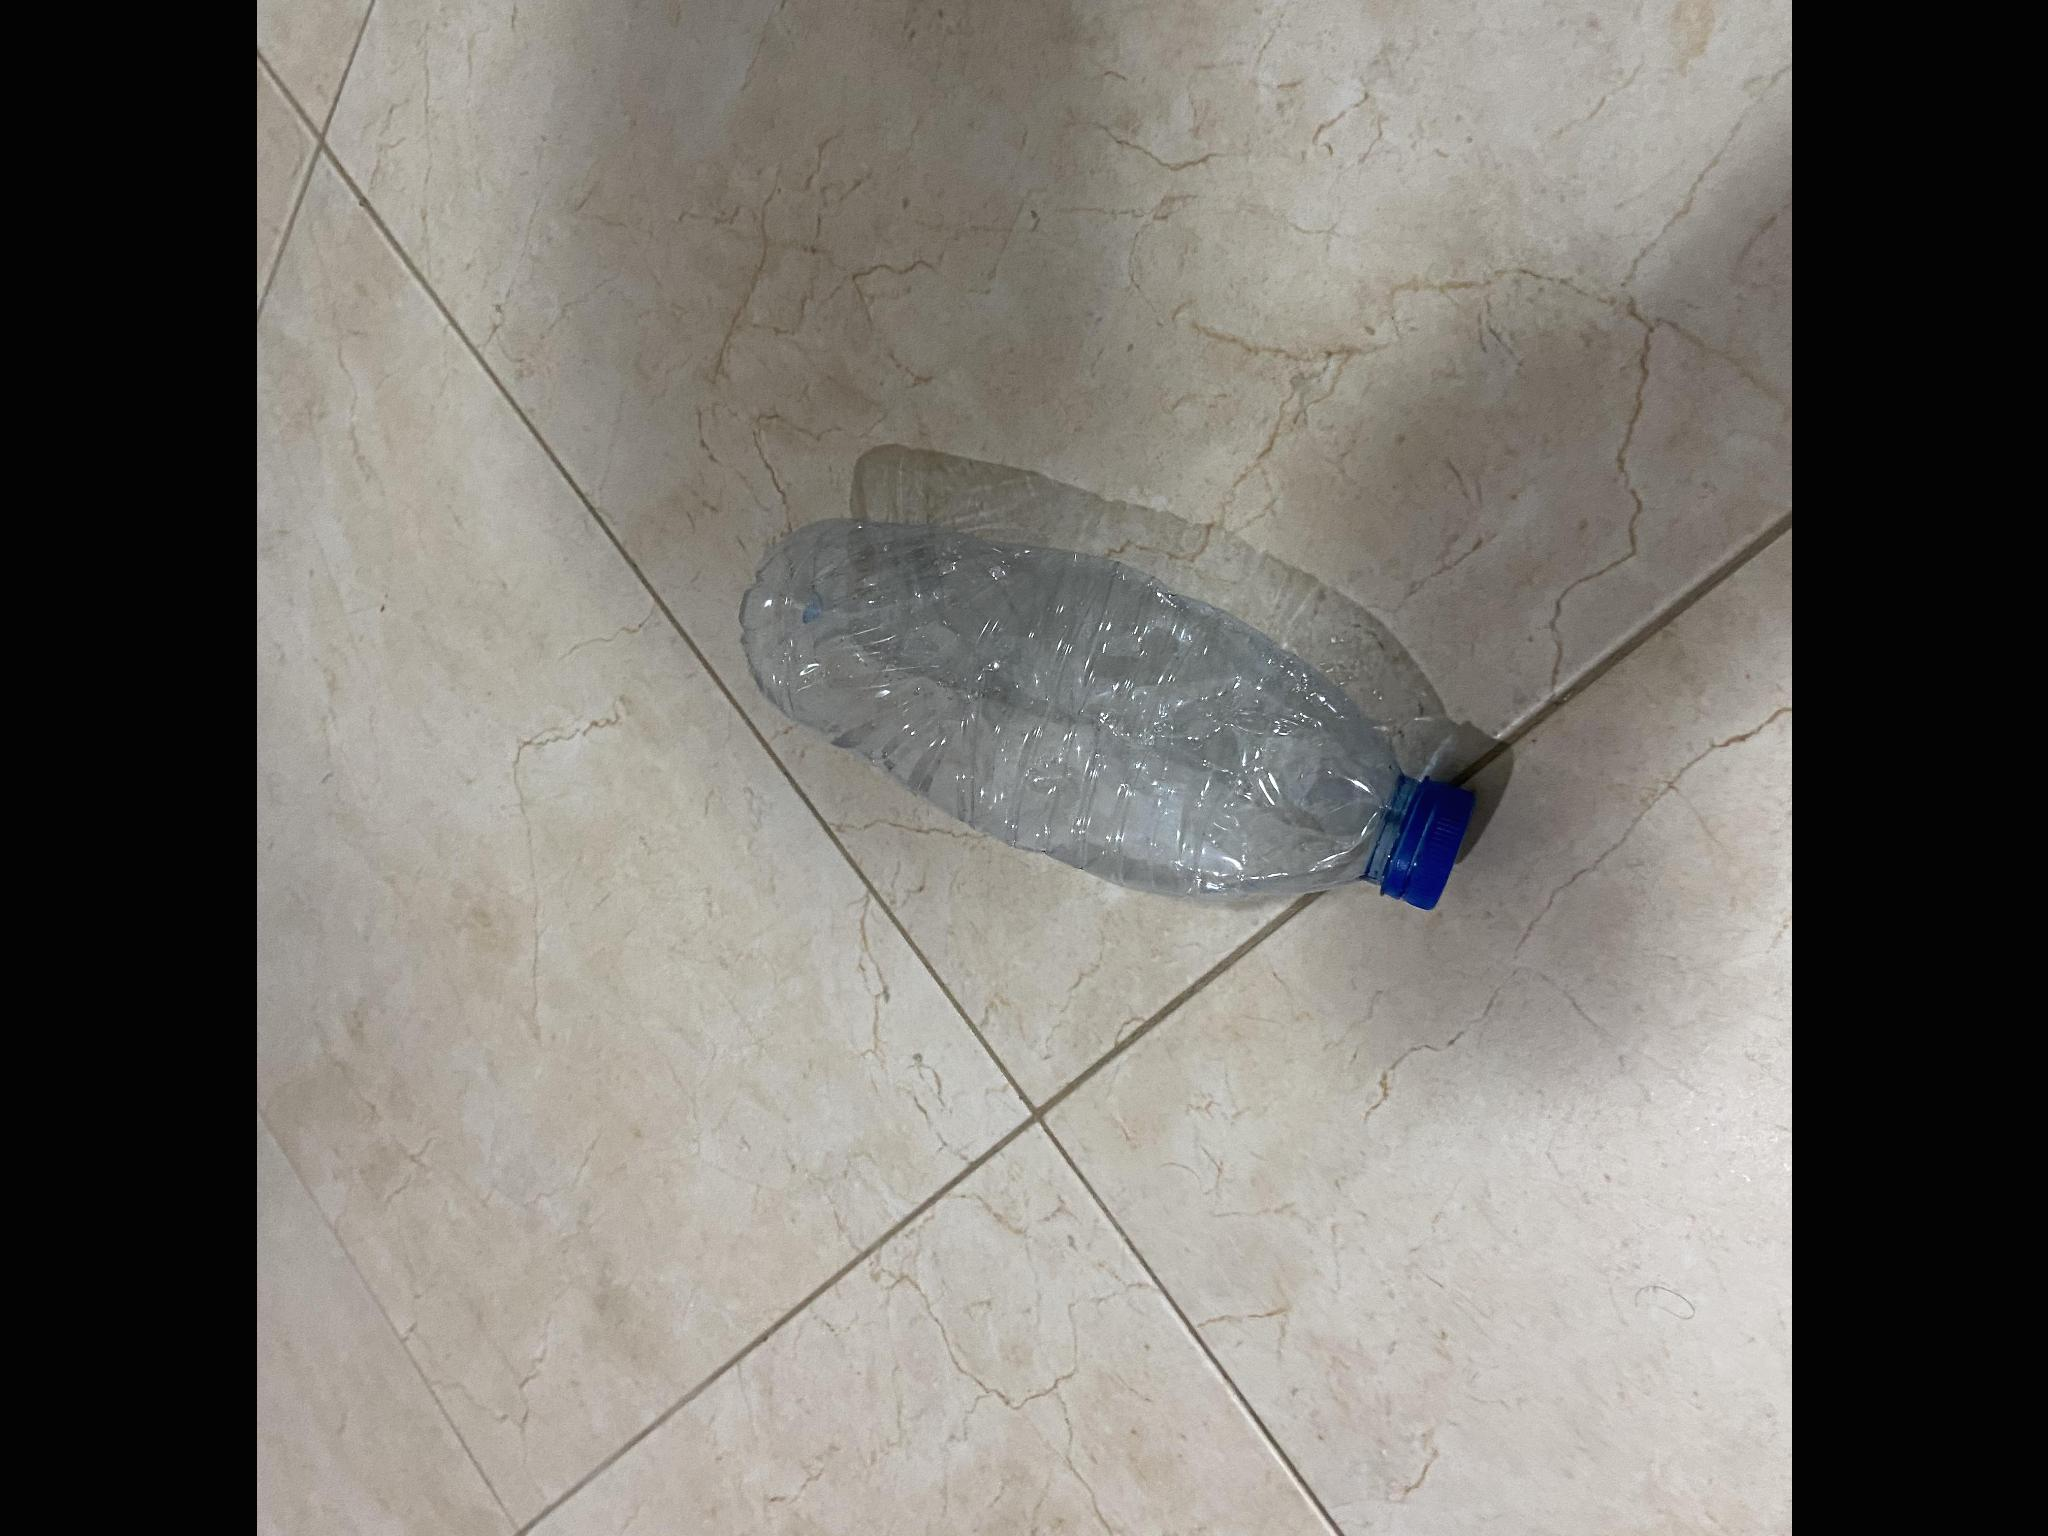bottle: (724, 510, 1490, 925)
